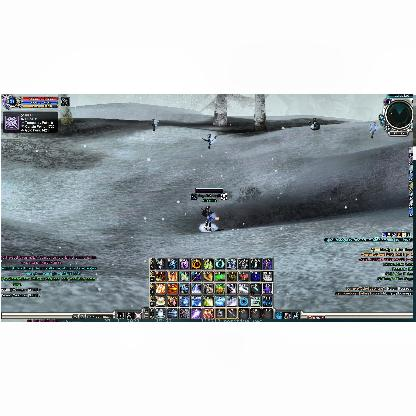caliana: (202, 134, 216, 148), (368, 121, 378, 139), (147, 119, 159, 131)
